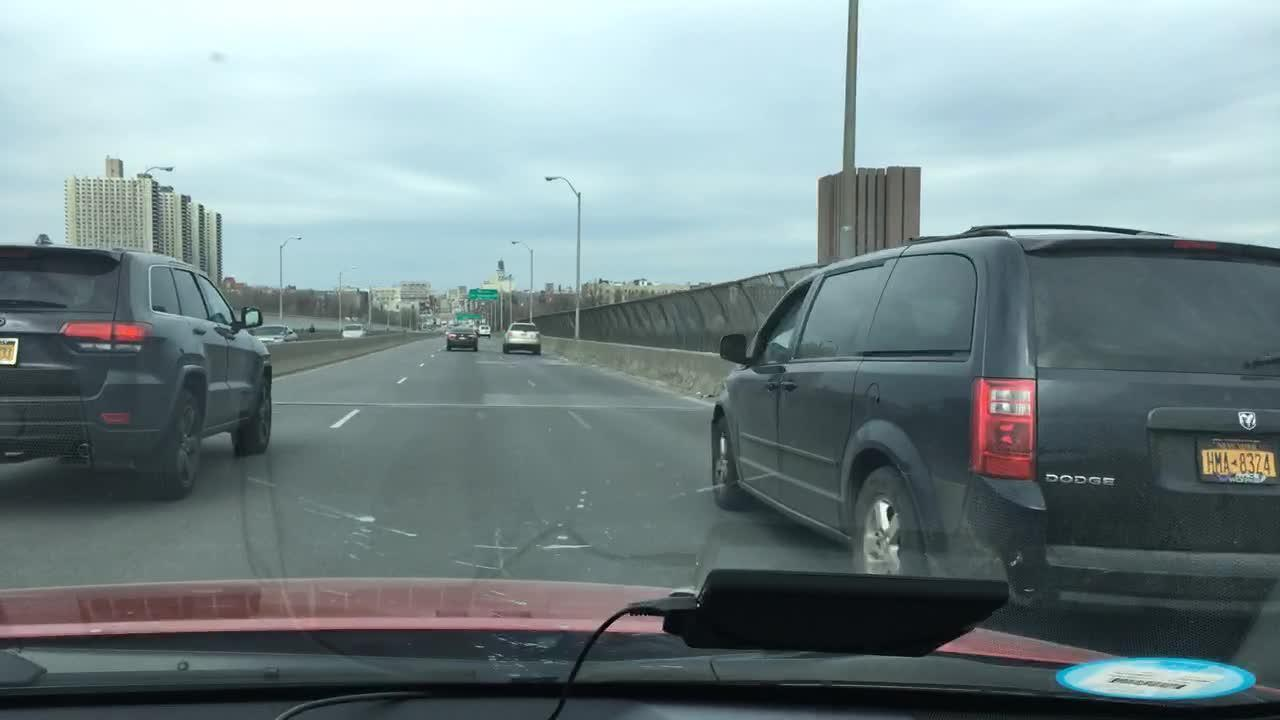ram: (1231, 406, 1262, 439)
